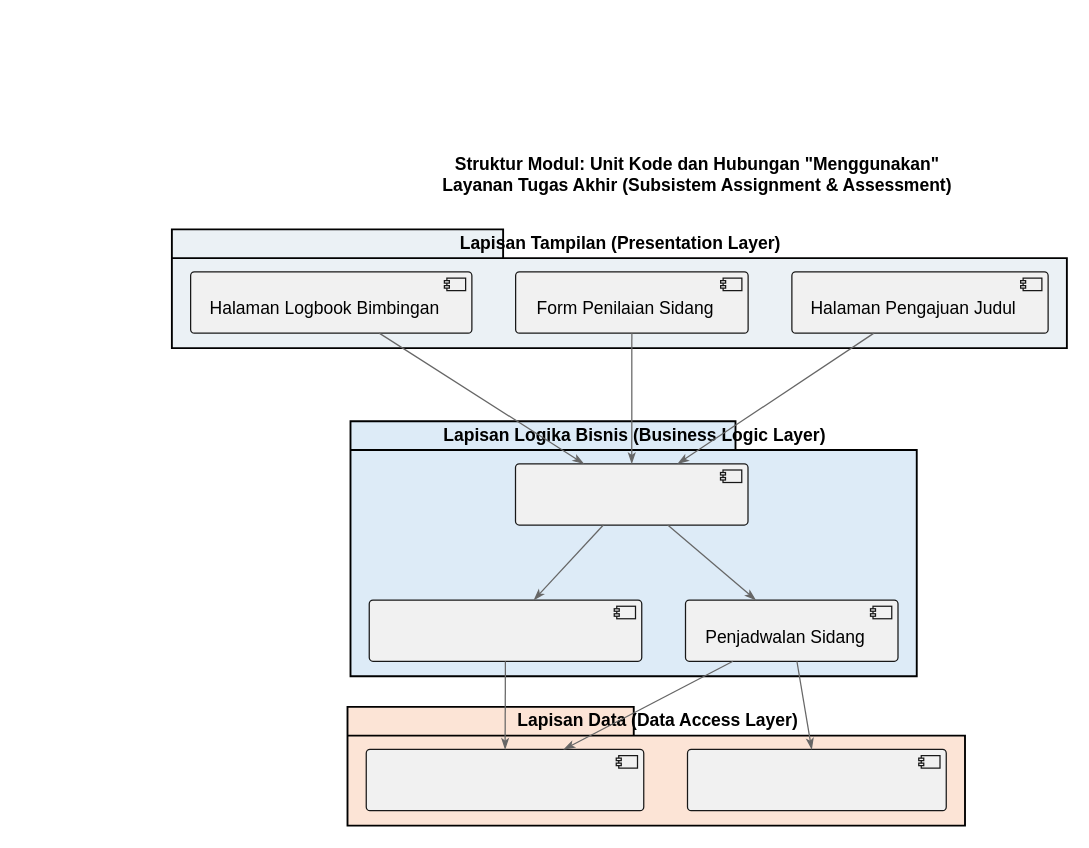
Some shapes in this 1089 by 848 pixel diagram are drawn without their labels. The shapes that lost their labels are listed below. From the top down, each one's centre as x and y in pixels, then its label:
point 631,493: Pengelola Tugas Akhir
point 505,630: Validasi Syarat SKS & Kuota
point 504,779: Repositori Dokumen Skripsi
point 816,779: Repositori Nilai Akademik
